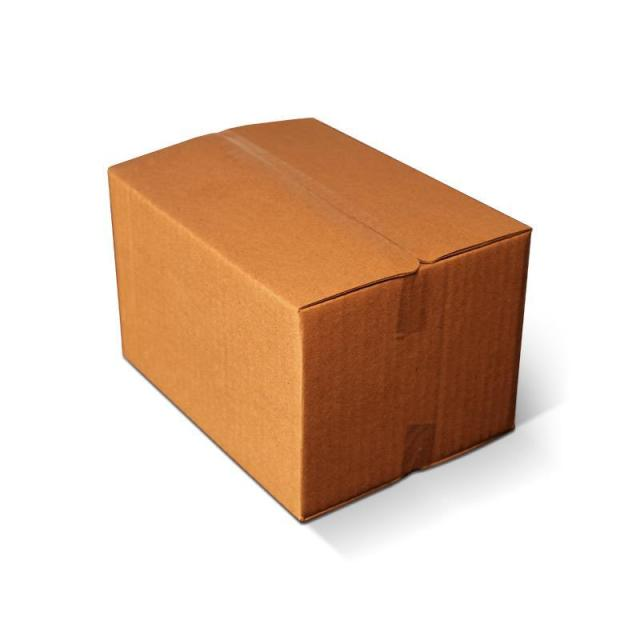cardboard: (109, 114, 533, 526)
